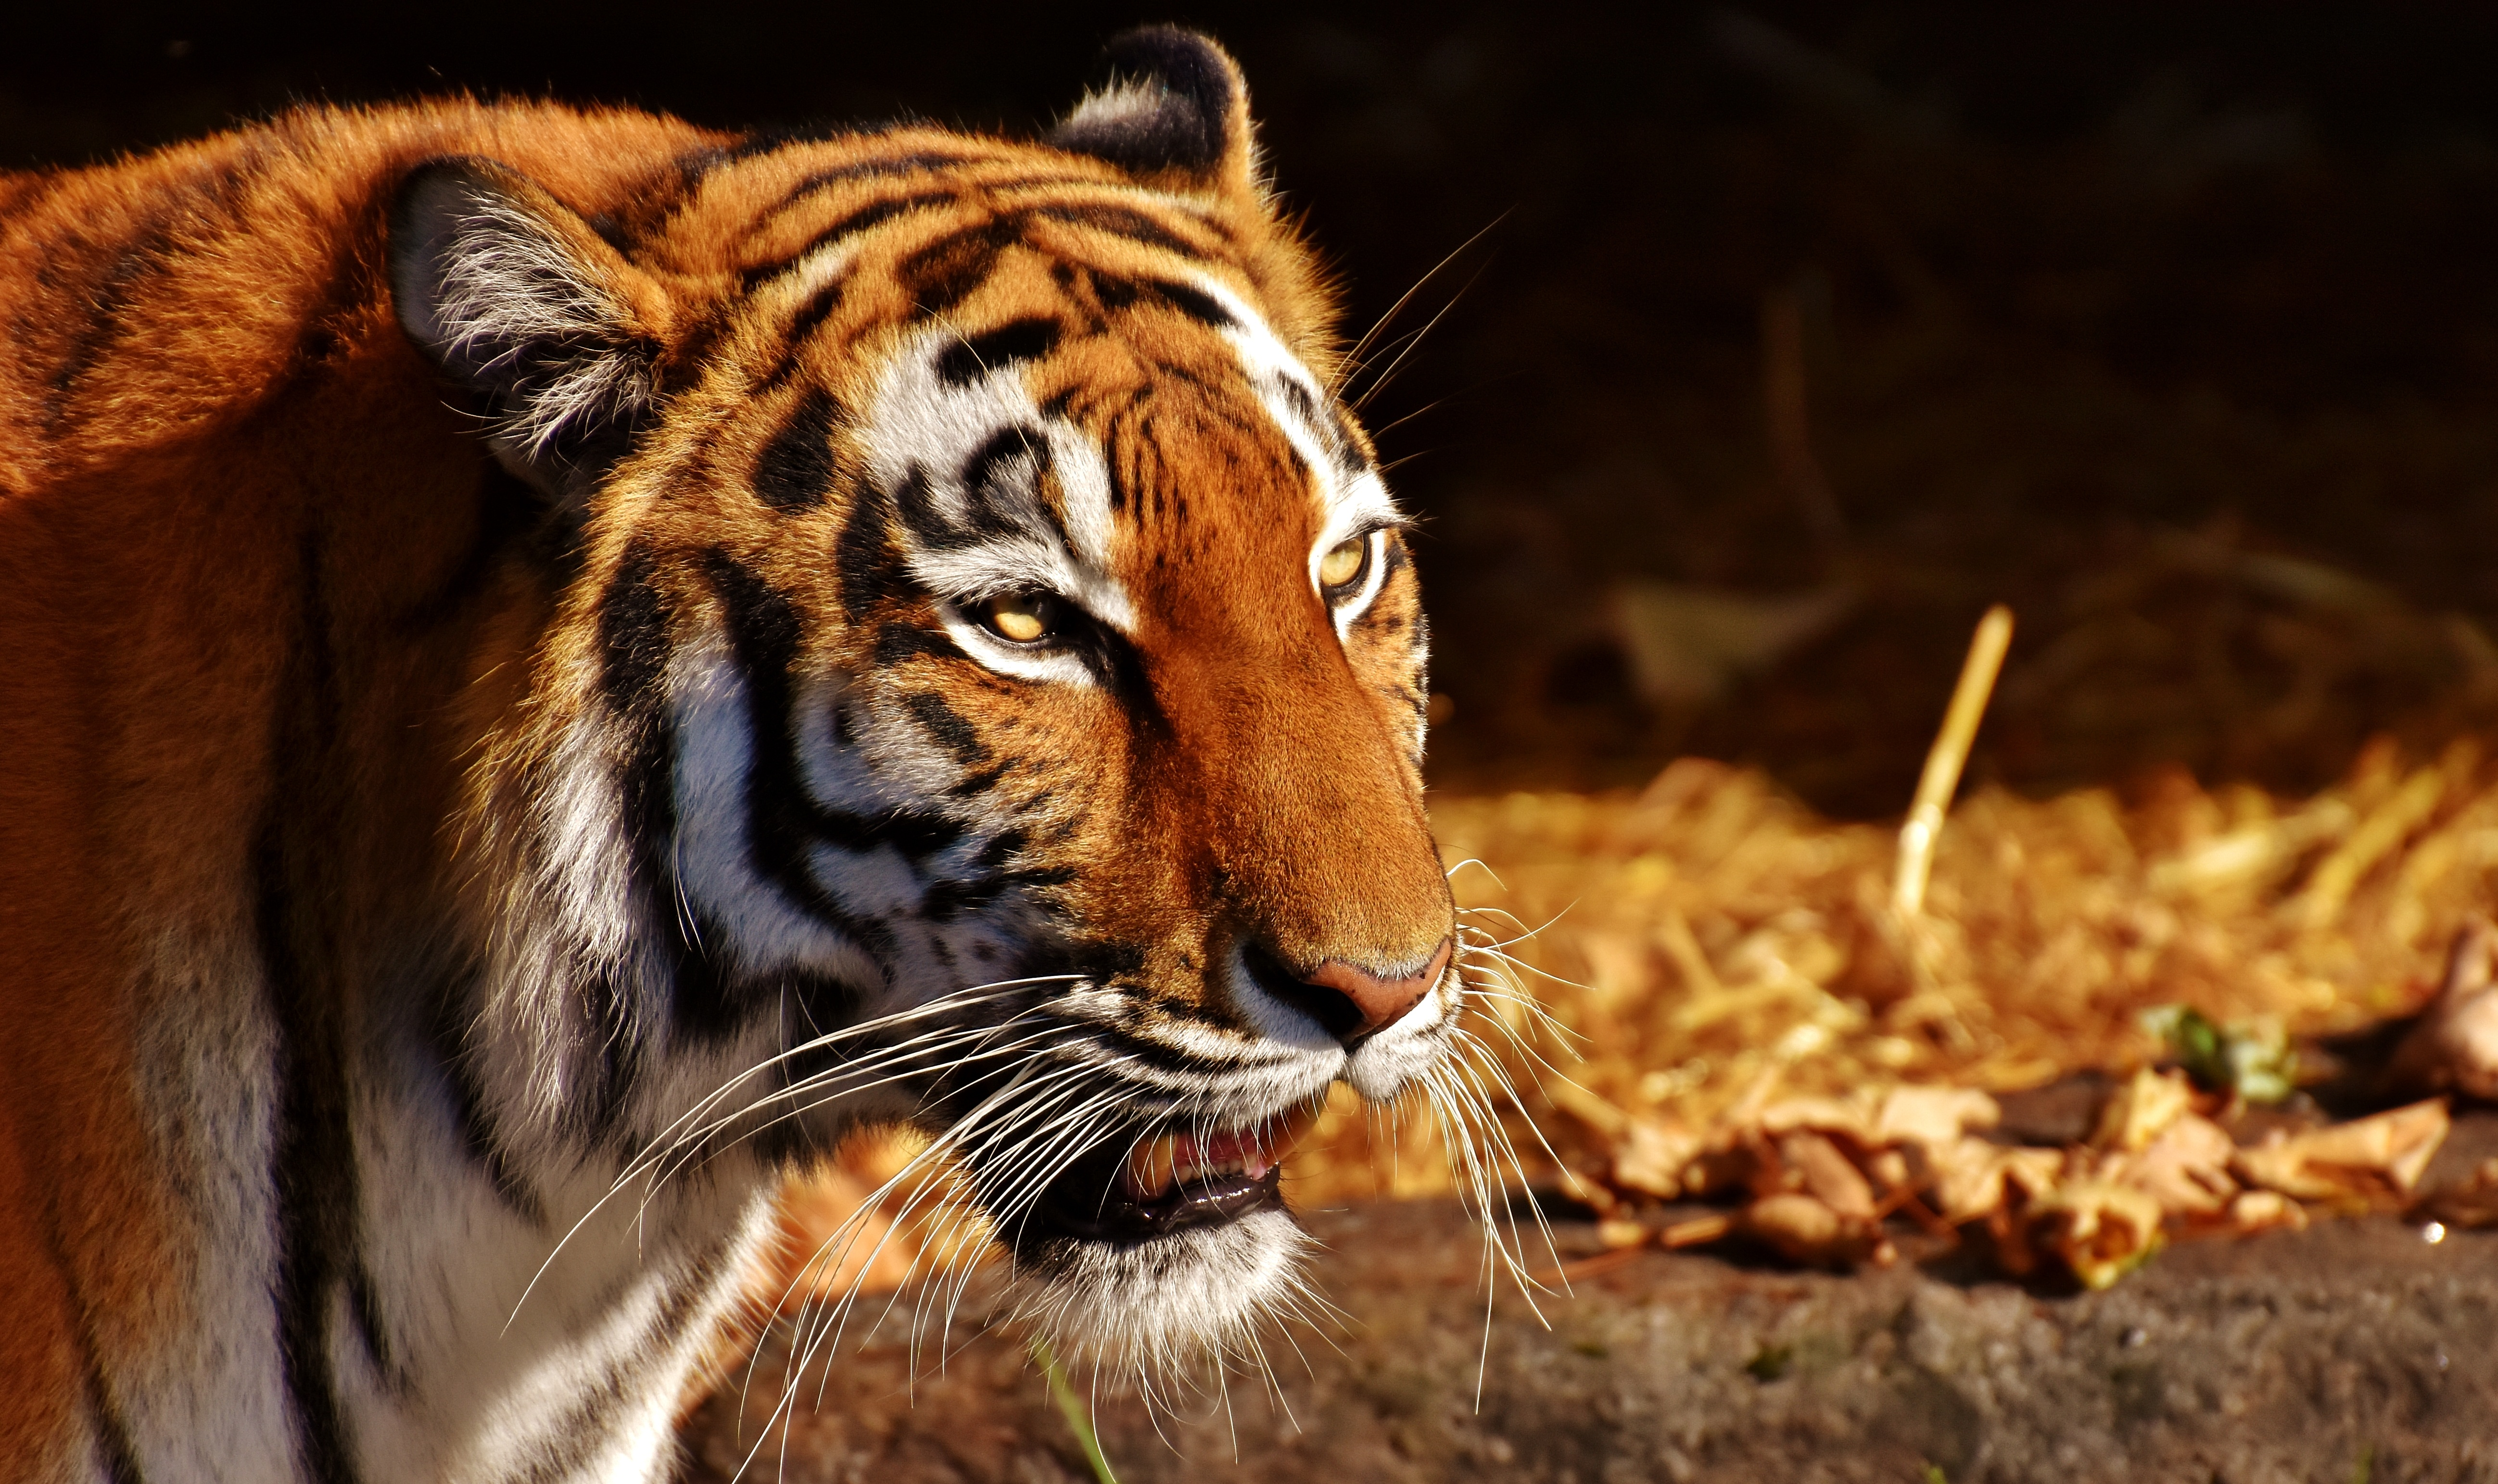tiger: (74, 69, 1482, 1406)
